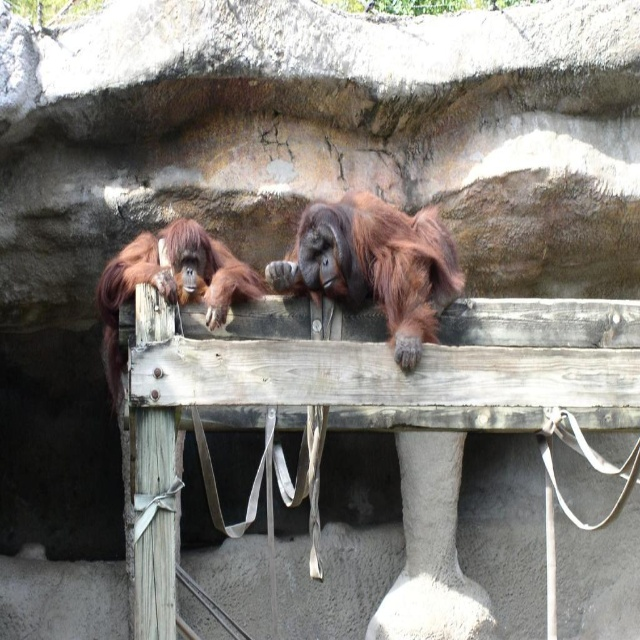Monkey: (266, 189, 468, 372)
